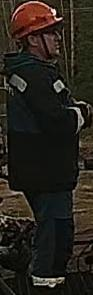gloves: (71, 95, 93, 119)
helmet: (8, 0, 63, 39)
vest: (2, 52, 80, 192)
